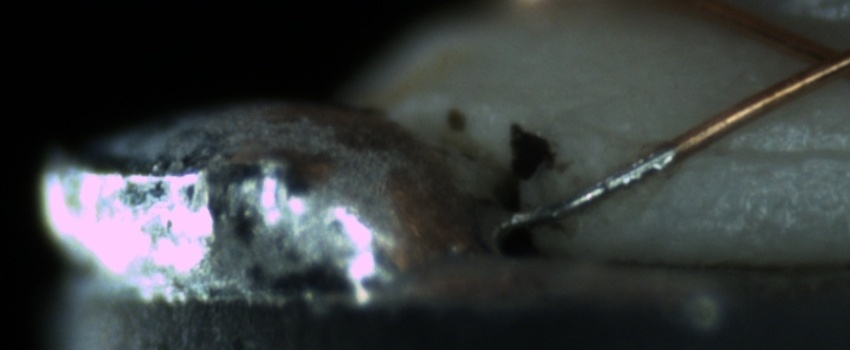CL: (779, 26, 849, 93)
DL: (685, 122, 849, 186)
TS: (516, 145, 679, 225)
